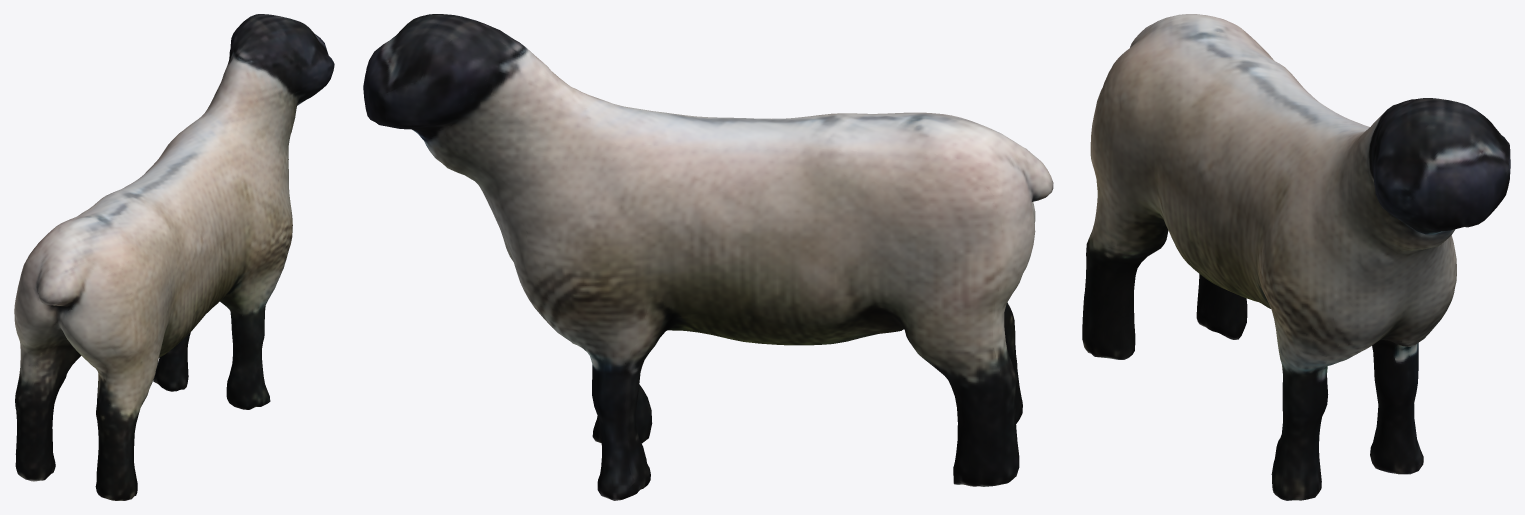
Rendered from adulto.glb.
3 renders of one model, left to right at view 1: azimuth 30°, elevation 25°; view 2: azimuth 150°, elevation 25°; view 3: azimuth 270°, elevation 25°, orthographic. The views are drawn at different scales.
Parts seen in each view (by area): view 1: mesh; view 2: mesh; view 3: mesh.
Boxes of the visible parts, bbox=[...] form: mesh: bbox=[14, 14, 334, 500]; mesh: bbox=[363, 14, 1053, 500]; mesh: bbox=[1082, 14, 1510, 500].
Bounding box in the file's own units: 1.55 × 1.25 × 1.11.
1 material, 1 textured.
